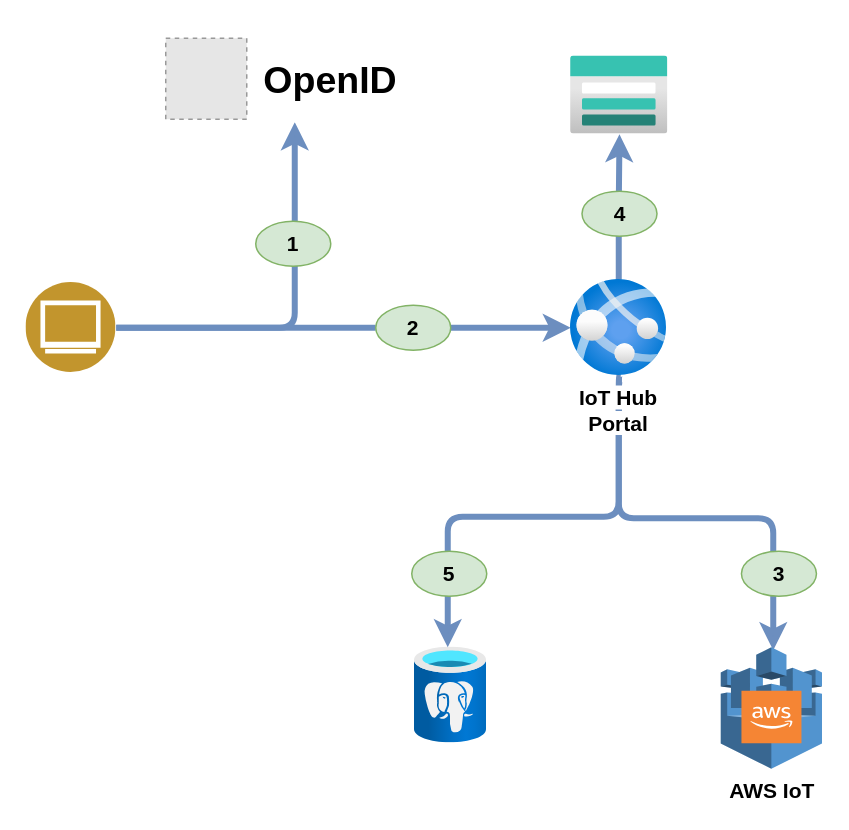
The diagram is 849 pixels wide and 830 high, and some of its shapes have lost their labels. Grey dashed boxes stand in for pictures. The centre of each missing label's shape, as x and y in pixels:
AWS Database for PostgreSQL: (x=450, y=694)
End User: (x=71, y=327)
S3 Storage: (x=619, y=95)
